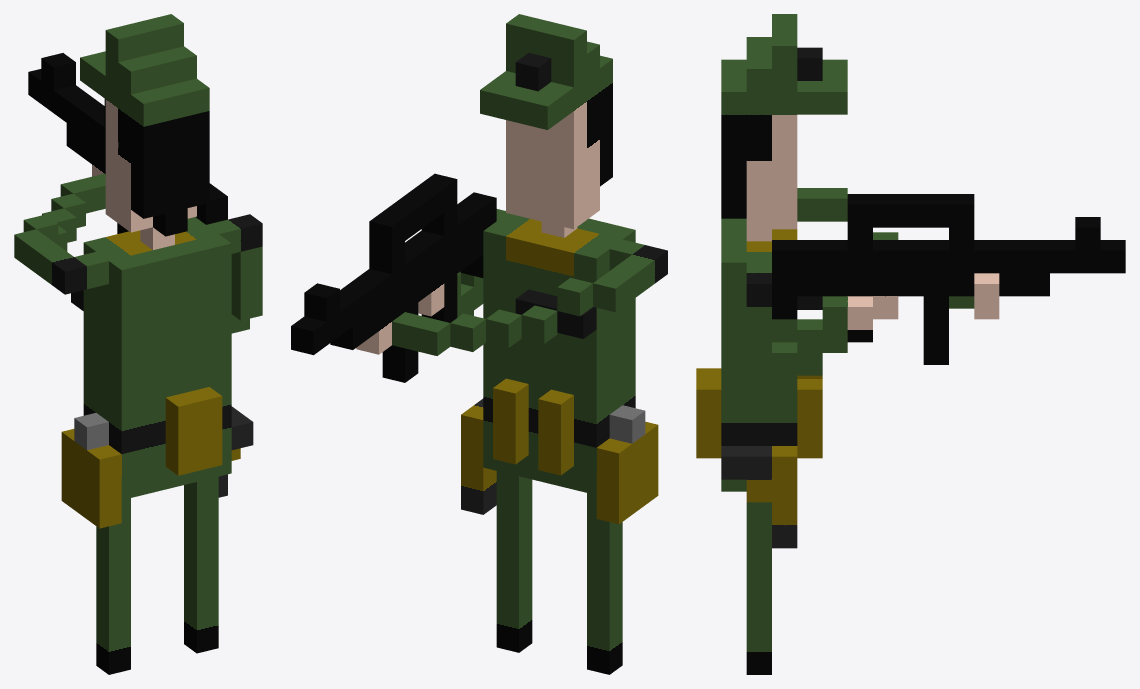
Rendered from Soldier2.dae.
3 renders of one model, left to right at view 1: azimuth 30°, elevation 25°; view 2: azimuth 150°, elevation 25°; view 3: azimuth 270°, elevation 25°, orthographic. The views are drawn at different scales.
Visible parts, largest first — view 1: Person1; view 2: Person1; view 3: Person1.
Part boxes in pixels (left/top/right/bottom): Person1: left=14, top=14, right=262, bottom=674; Person1: left=291, top=14, right=667, bottom=674; Person1: left=696, top=14, right=1125, bottom=674.
Size of the model in its own units: 9 by 27 by 17.
1 material, 1 textured.
